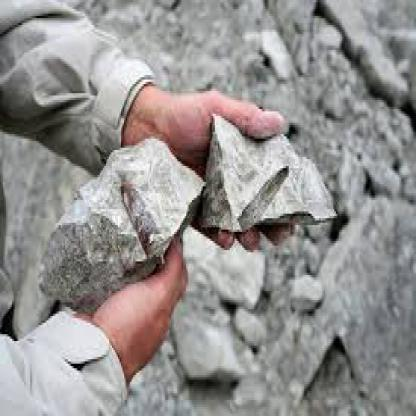Sedimentary_Chalk: (226, 141, 326, 241), (91, 150, 160, 268), (307, 50, 390, 139)
